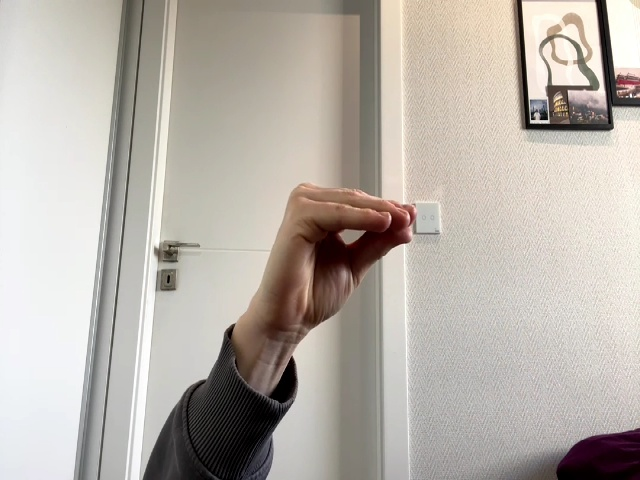E: (260, 183, 417, 337)
